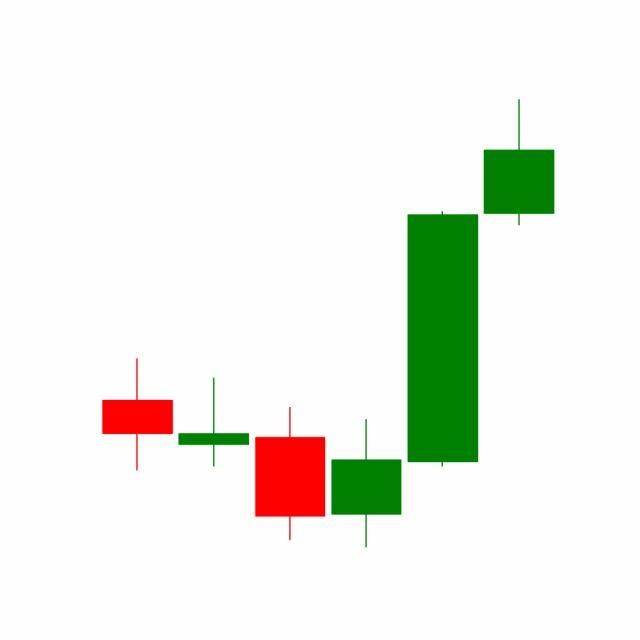Three Inside Up-Down: (252, 207, 482, 549)
